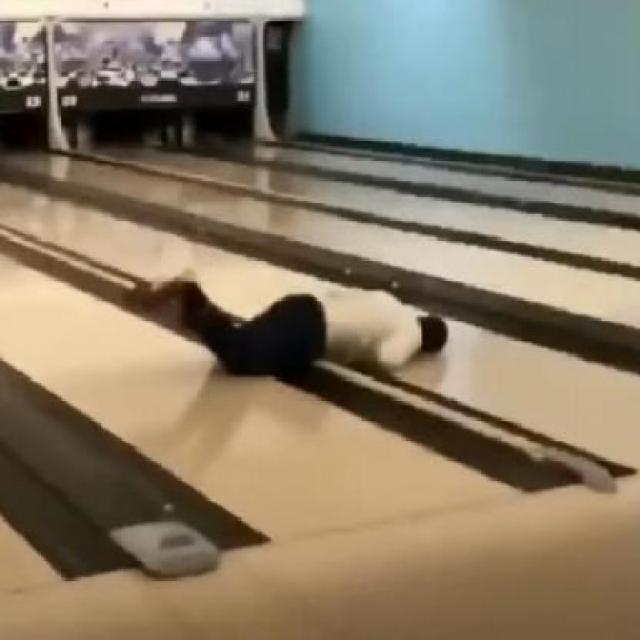fall: (147, 266, 453, 382)
